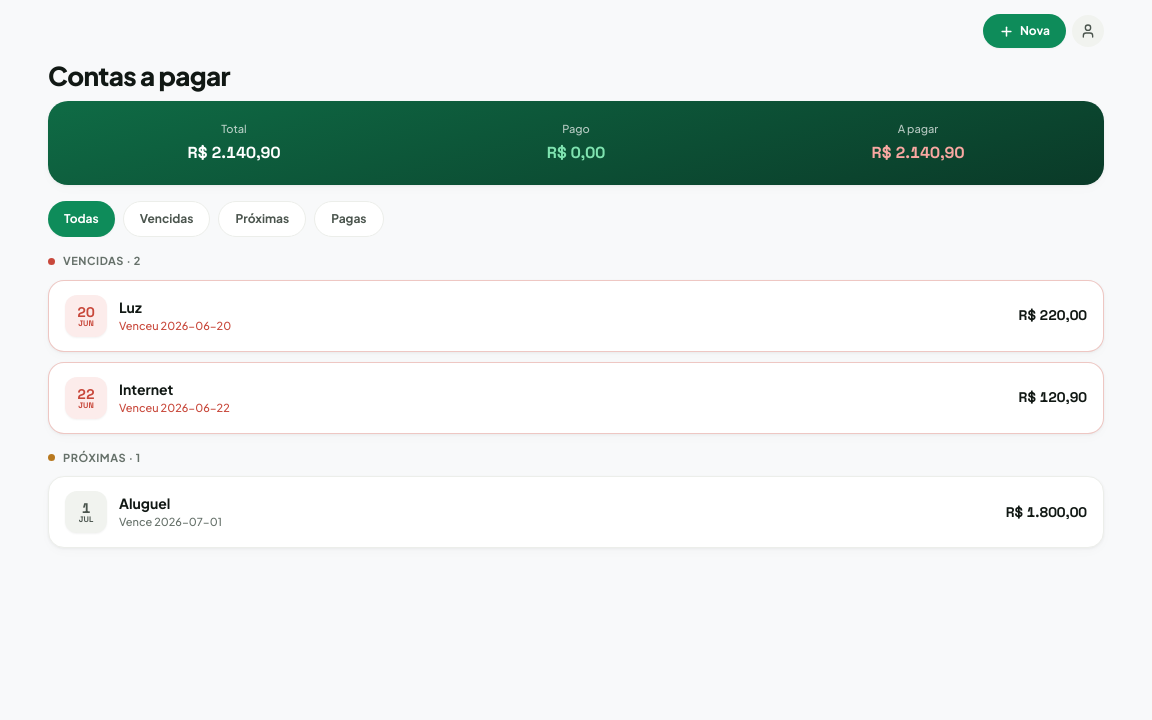
Test: PayablesPage › with data › clicking a payable card opens a detail sheet
Click the text "Luz": (130, 307) left=119, top=298, right=142, bottom=316
(page scrolled)
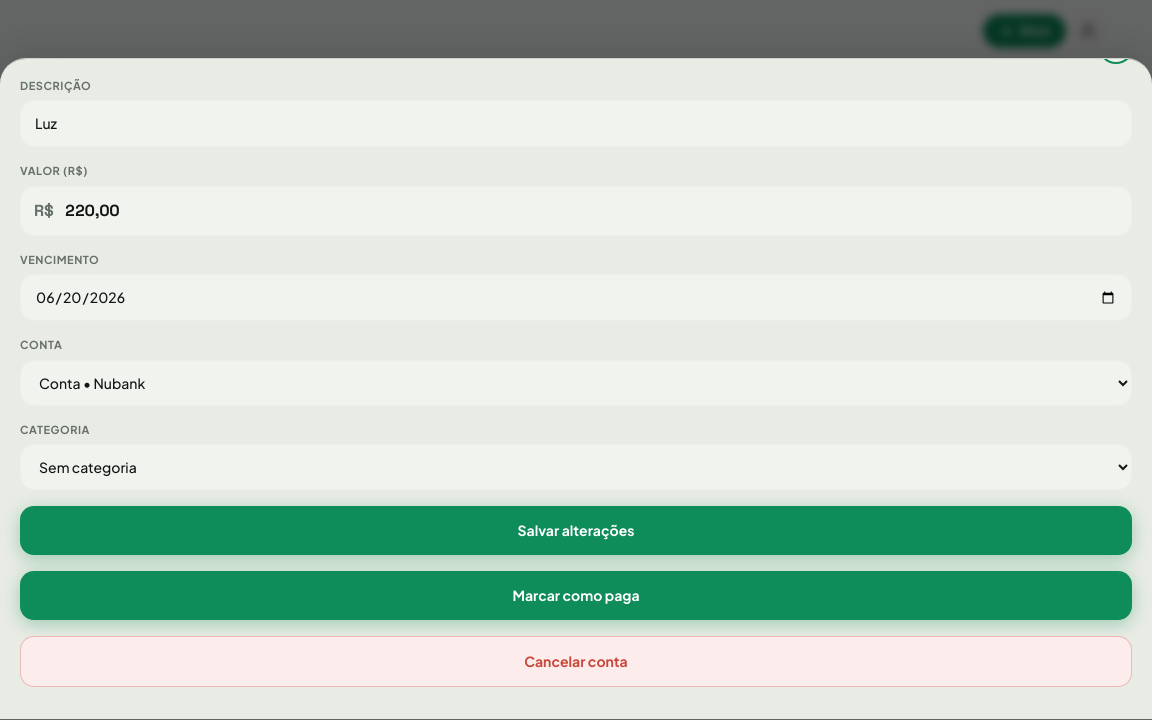
Result: the dialog is shown
Result: the button "Marcar como paga" is shown at left=20, top=571, right=1132, bottom=620
Result: the button "Cancelar conta" is shown at left=20, top=636, right=1132, bottom=687
